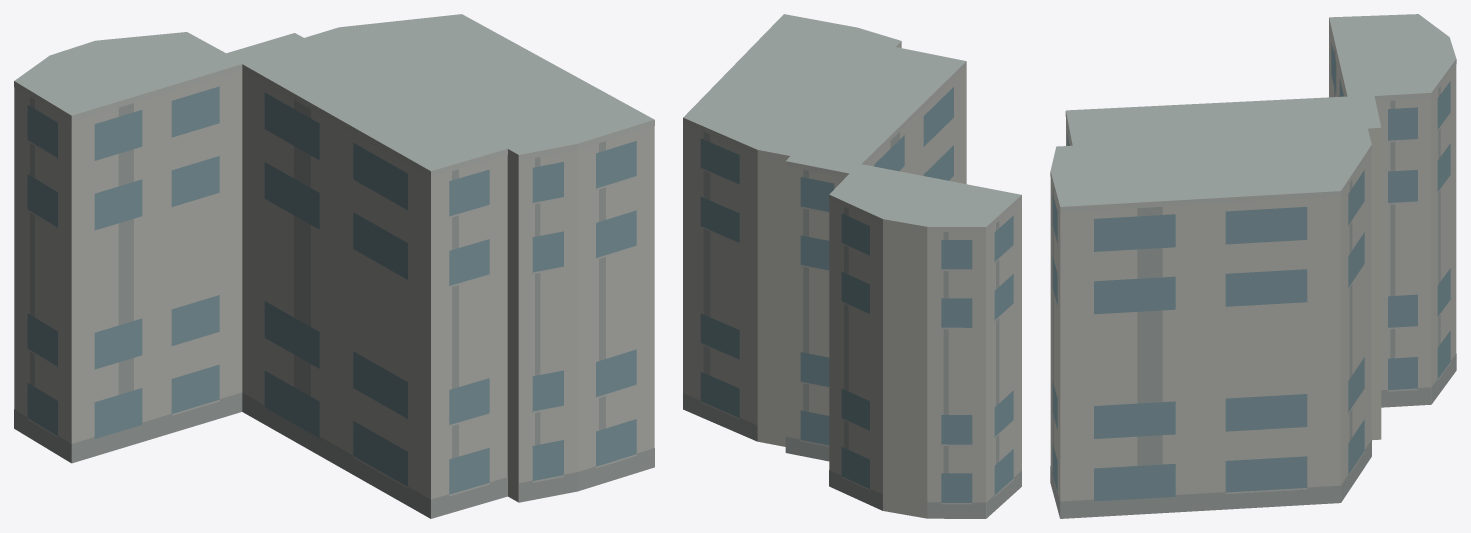
The model's file is survey-upis-32800552.glb.
3 views of the same model, side by side, from view 1: azimuth 30°, elevation 25°; view 2: azimuth 150°, elevation 25°; view 3: azimuth 270°, elevation 25° (orthographic). The views are drawn at different scales.
Visible parts, largest first — view 1: survey-upis-32800552.tmp; view 2: survey-upis-32800552.tmp; view 3: survey-upis-32800552.tmp.
Boxes of the visible parts, x1,y1,x2,y2 form: survey-upis-32800552.tmp: (14, 14, 654, 518); survey-upis-32800552.tmp: (683, 14, 1021, 518); survey-upis-32800552.tmp: (1050, 14, 1456, 518).
Size of the model in its own units: 18.05 by 13.6 by 16.05.
